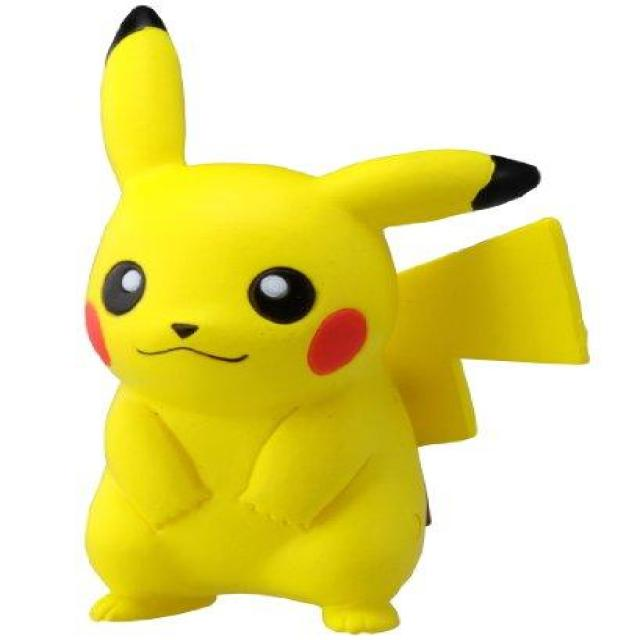pikachu: (86, 6, 585, 634)
